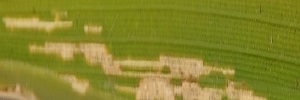RiceBacterialBlight: (2, 8, 266, 100)
